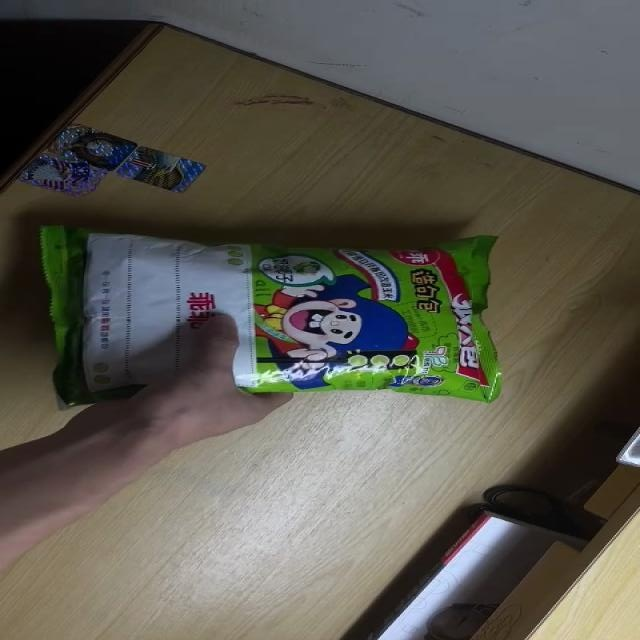Good-Luck: (43, 225, 509, 412)
